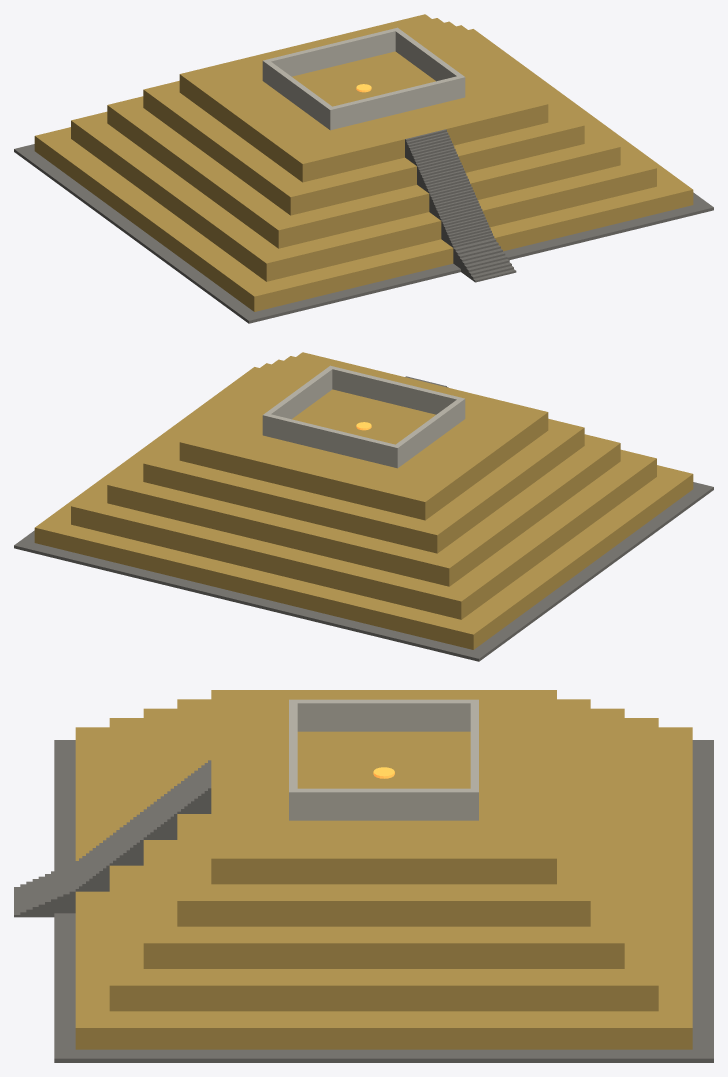
Rendered from caral_pyramid_lesser_lod0.glb.
The picture shows the model from 3 angles, top to bottom: view 1: azimuth 30°, elevation 25°; view 2: azimuth 150°, elevation 25°; view 3: azimuth 270°, elevation 25°; orthographic projection. The views are drawn at different scales.
Visible parts, largest first — view 1: GEO-Caral_PyramidLesser_LOD0_Plaster_Yellow, GEO-Caral_PyramidLesser_LOD0_Stone_Granodiorite, GEO-Caral_PyramidLesser_LOD0_Plaster_White; view 2: GEO-Caral_PyramidLesser_LOD0_Plaster_Yellow, GEO-Caral_PyramidLesser_LOD0_Plaster_White, GEO-Caral_PyramidLesser_LOD0_Stone_Granodiorite; view 3: GEO-Caral_PyramidLesser_LOD0_Plaster_Yellow, GEO-Caral_PyramidLesser_LOD0_Stone_Granodiorite, GEO-Caral_PyramidLesser_LOD0_Plaster_White.
Part boxes in pixels (x1,y1,x2,y2): GEO-Caral_PyramidLesser_LOD0_Plaster_Yellow: (34, 14, 693, 311); GEO-Caral_PyramidLesser_LOD0_Stone_Granodiorite: (14, 129, 713, 323); GEO-Caral_PyramidLesser_LOD0_Plaster_White: (262, 27, 465, 130); GEO-Caral_PyramidLesser_LOD0_Plaster_Yellow: (34, 352, 693, 649); GEO-Caral_PyramidLesser_LOD0_Plaster_White: (262, 365, 465, 468); GEO-Caral_PyramidLesser_LOD0_Stone_Granodiorite: (14, 376, 713, 661); GEO-Caral_PyramidLesser_LOD0_Plaster_Yellow: (75, 690, 692, 1049); GEO-Caral_PyramidLesser_LOD0_Stone_Granodiorite: (14, 740, 713, 1062); GEO-Caral_PyramidLesser_LOD0_Plaster_White: (289, 699, 478, 820).
Bounding box in the file's own units: 4.23 × 0.976 × 3.93.
